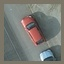car: (21, 16, 46, 45)
